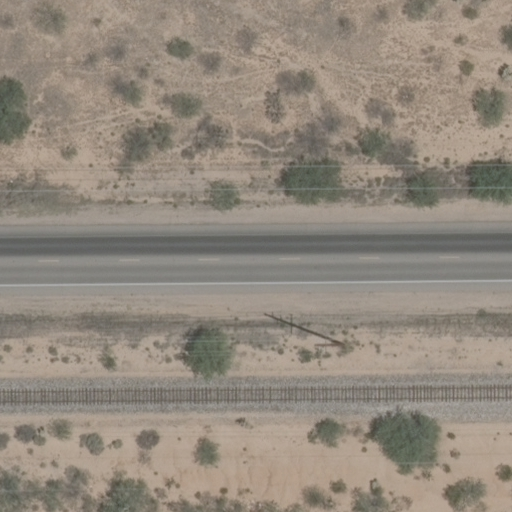DT: (264, 312, 346, 347)
